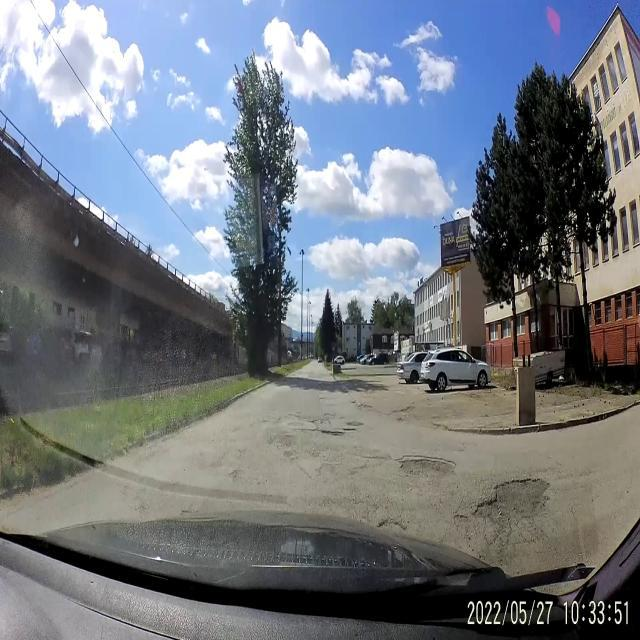Manhole: (348, 417, 366, 427), (288, 421, 302, 427)
Pothole: (470, 472, 548, 525), (394, 449, 456, 483), (376, 515, 406, 530), (319, 428, 346, 438), (341, 425, 356, 432), (323, 410, 333, 420)
